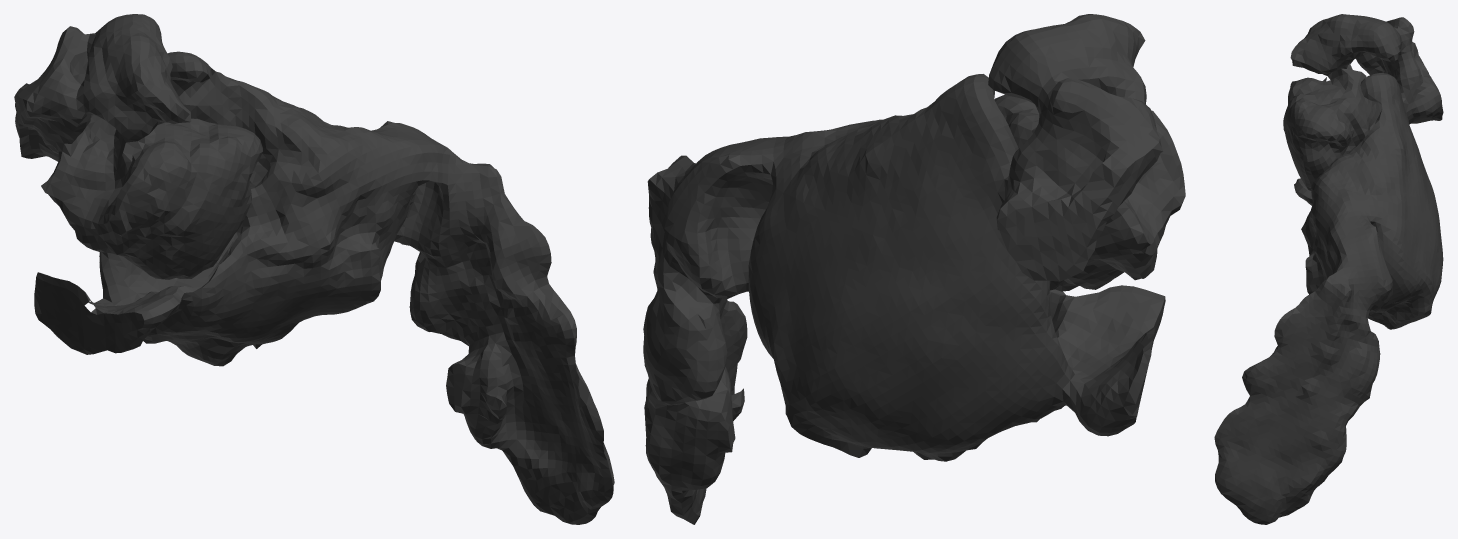
File: canine_cardiac_trabeculae_septomarginalis.glb
3 renders of one model, left to right at view 1: azimuth 30°, elevation 25°; view 2: azimuth 150°, elevation 25°; view 3: azimuth 270°, elevation 25°, orthographic. The views are drawn at different scales.
Visible parts, largest first — view 1: canine_cardiac_trabeculae_septomarginalis; view 2: canine_cardiac_trabeculae_septomarginalis; view 3: canine_cardiac_trabeculae_septomarginalis.
Boxes of the visible parts, x1,y1,x2,y2 form: canine_cardiac_trabeculae_septomarginalis: (14,14,614,524); canine_cardiac_trabeculae_septomarginalis: (643,14,1185,524); canine_cardiac_trabeculae_septomarginalis: (1214,14,1443,524).
Size of the model in its own units: 0.0453 by 0.0489 by 0.0268.
1 material, 1 textured.
